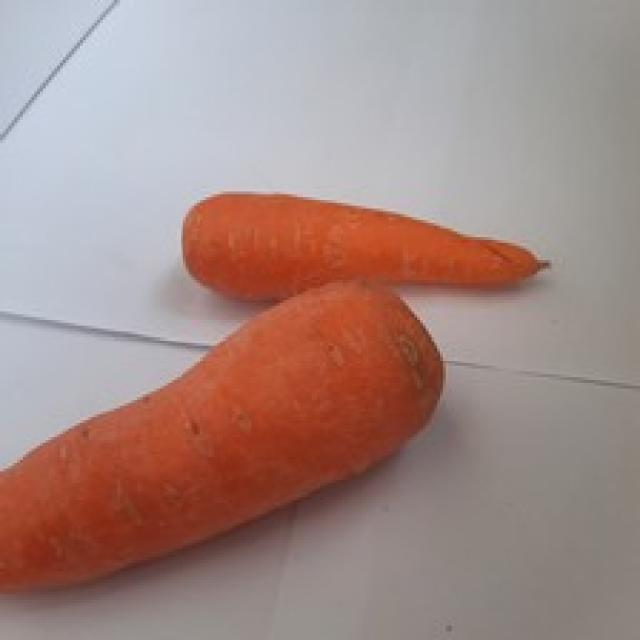carrot: (0, 280, 449, 594), (186, 188, 553, 301)
